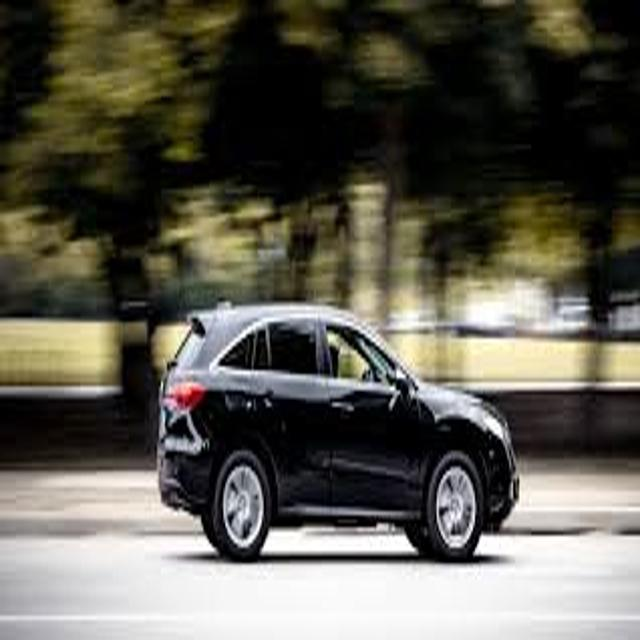car: (158, 301, 518, 562)
